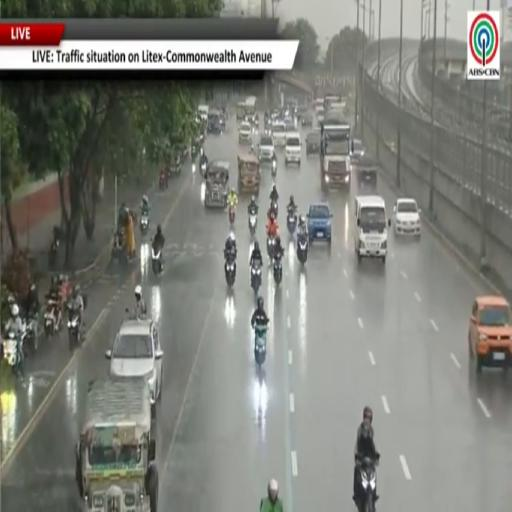car: (105, 319, 163, 417), (469, 296, 511, 373), (307, 203, 332, 243), (394, 198, 420, 236), (285, 132, 301, 166), (258, 134, 276, 164), (207, 110, 223, 135), (351, 139, 365, 164), (306, 131, 320, 156), (272, 122, 285, 148), (239, 121, 252, 143), (301, 112, 312, 126), (285, 120, 296, 133)
jeepney: (76, 378, 158, 511), (204, 162, 229, 207), (352, 155, 378, 191), (238, 154, 260, 194), (237, 102, 246, 122)
motorcycle: (357, 457, 378, 511), (3, 329, 22, 374), (67, 303, 81, 350), (44, 299, 59, 339), (24, 313, 38, 355), (255, 324, 267, 366), (225, 253, 236, 287), (251, 261, 261, 294), (297, 236, 308, 264), (49, 239, 59, 268), (152, 247, 162, 275), (273, 254, 282, 285), (287, 210, 297, 234), (248, 213, 257, 237), (267, 236, 275, 259), (140, 215, 149, 235), (159, 172, 168, 189), (191, 143, 200, 159), (270, 201, 278, 218), (229, 205, 235, 226), (271, 158, 276, 179), (200, 162, 206, 177)
truck: (320, 114, 350, 190), (323, 94, 342, 114)
